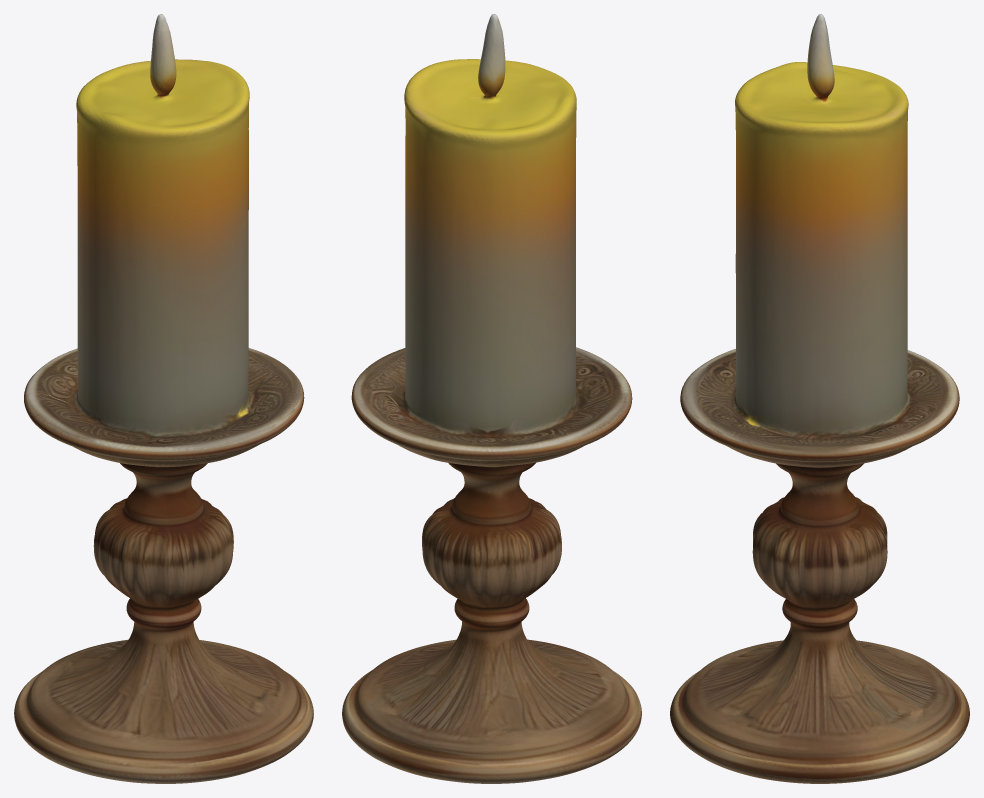
The model's file is candle-12.glb.
3 views of the same model, side by side, from view 1: azimuth 30°, elevation 25°; view 2: azimuth 150°, elevation 25°; view 3: azimuth 270°, elevation 25° (orthographic).
Parts seen in each view (by area): view 1: tripo_node_1da86824-385f-4d85-8c83-5b39b339c1c7; view 2: tripo_node_1da86824-385f-4d85-8c83-5b39b339c1c7; view 3: tripo_node_1da86824-385f-4d85-8c83-5b39b339c1c7.
Part boxes in pixels (bbox=[...]): tripo_node_1da86824-385f-4d85-8c83-5b39b339c1c7: bbox=[14, 14, 313, 783]; tripo_node_1da86824-385f-4d85-8c83-5b39b339c1c7: bbox=[342, 14, 641, 783]; tripo_node_1da86824-385f-4d85-8c83-5b39b339c1c7: bbox=[670, 14, 969, 783].
Size of the model in its own units: 0.3621 by 0.9492 by 0.3629.
Materials: 1 (1 with a texture image).
